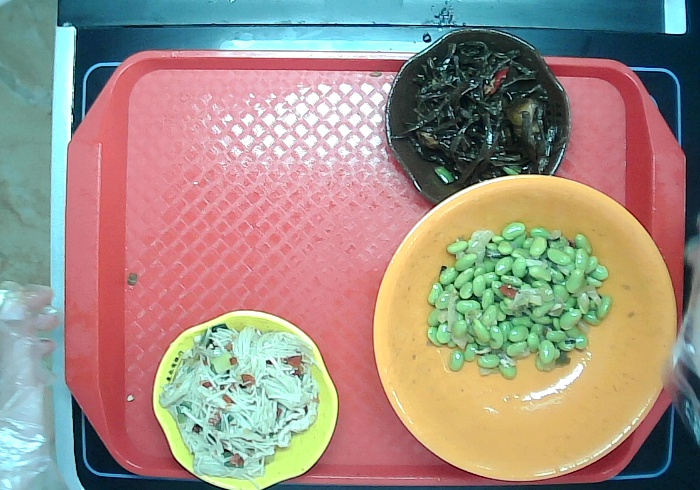YKMZ-Huang_Se_Ao_Bian_Wan: (150, 309, 339, 490)
YKMZ-Ju_Se_Tang_Wan: (369, 173, 679, 481)
YKMZ-Ka_Fei_Ao_Bian_Wan: (382, 28, 573, 204)
